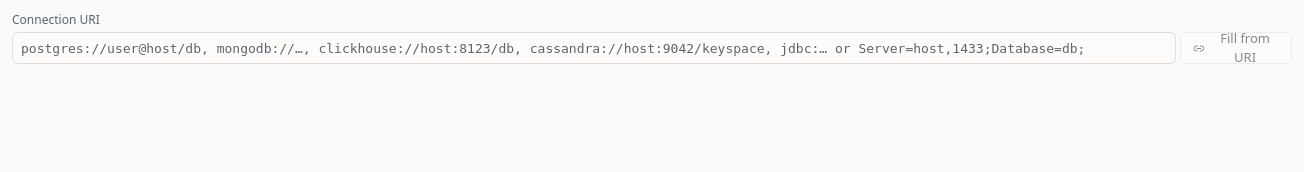
Test case: UriPaste › fills form fields from a parsed URI
This screenshot has width=1304, height=172.
Type "mongodb://ada:pw@db.local:27018/app" into the field labelled "Connection URI".
click(594, 48); type("mongodb://ada:pw@db.local:27018/app")  # box x1=12 y1=32 x2=1176 y2=64
Then press Enter
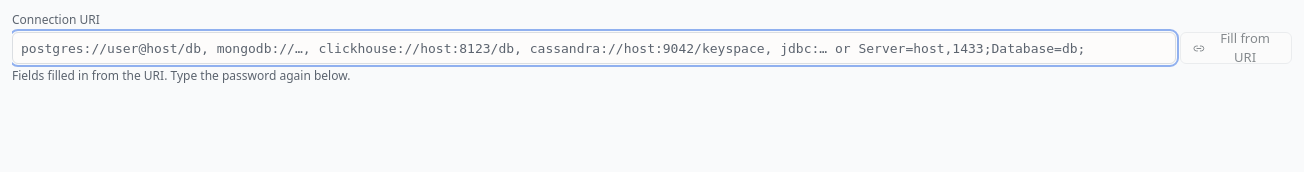
Expected: the text "Fields filled in from the URI. Type the password again below." is shown, x1=12 y1=67 x2=350 y2=84
